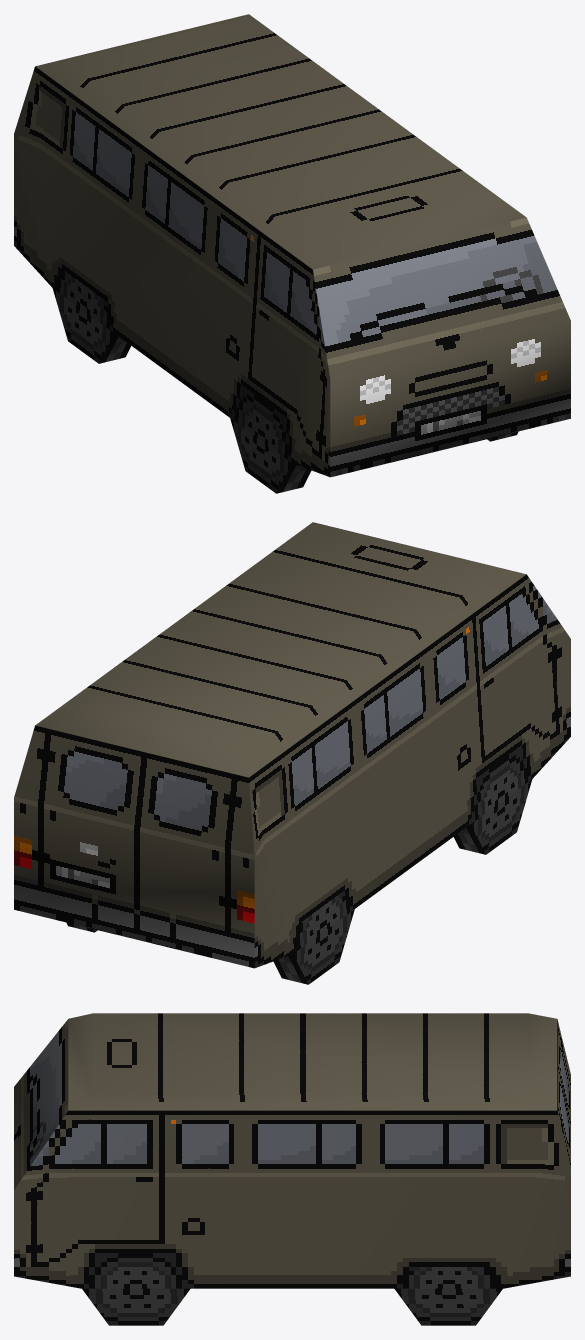
File: sv-uaz452.glb
The picture shows the model from 3 angles, top to bottom: view 1: azimuth 30°, elevation 25°; view 2: azimuth 150°, elevation 25°; view 3: azimuth 270°, elevation 25°; orthographic projection. The views are drawn at different scales.
Parts seen in each view (by area): view 1: sv-uaz452-mesh; view 2: sv-uaz452-mesh; view 3: sv-uaz452-mesh.
Boxes of the visible parts, x1,y1,x2,y2 form: sv-uaz452-mesh: [14, 14, 570, 493]; sv-uaz452-mesh: [14, 522, 570, 984]; sv-uaz452-mesh: [14, 1013, 570, 1325].
Size of the model in its own units: 18 by 17.92 by 41.
Materials: 1 (1 with a texture image).
